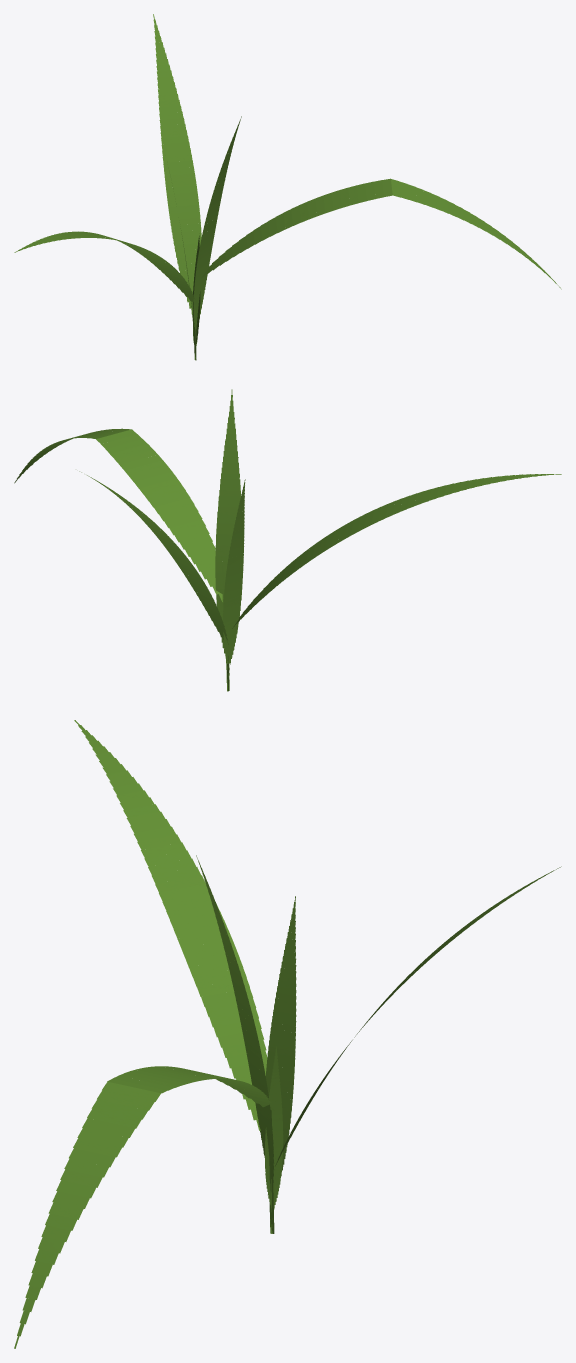
Rendered from maize_003_day_055.dae.
3 renders of one model, top to bottom at view 1: azimuth 30°, elevation 25°; view 2: azimuth 150°, elevation 25°; view 3: azimuth 270°, elevation 25°, orthographic. The views are drawn at different scales.
Visible parts, largest first — view 1: node; view 2: node; view 3: node.
Part boxes in pixels (x1,y1,x2,y2): node: (14,14,561,360); node: (14,389,561,691); node: (14,720,561,1348).
Bounding box in the file's own units: 0.5753 × 0.275 × 0.3363.
1 material, 1 textured.
